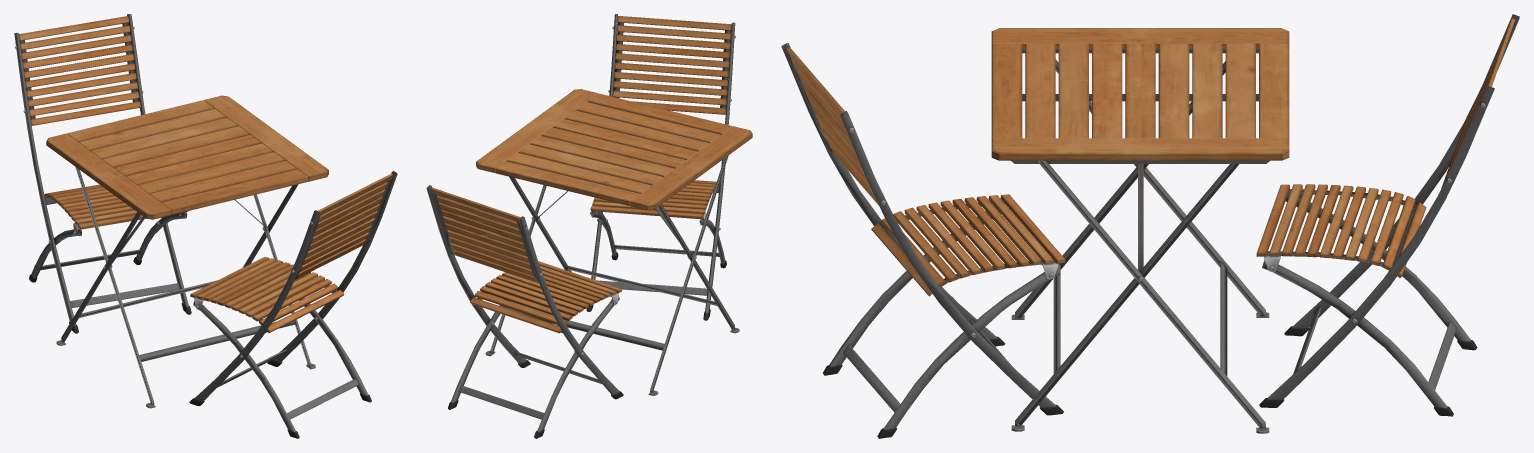
Rendered from outdoor_table_chair_set_01.glb.
3 views of the same model, side by side, from view 1: azimuth 30°, elevation 25°; view 2: azimuth 150°, elevation 25°; view 3: azimuth 270°, elevation 25° (orthographic). The views are drawn at different scales.
Visible parts, largest first — view 1: outdoor_table_chair_set_01_chair_01, outdoor_table_chair_set_01_table; view 2: outdoor_table_chair_set_01_chair_01, outdoor_table_chair_set_01_table; view 3: outdoor_table_chair_set_01_table, outdoor_table_chair_set_01_chair_01.
Boxes of the visible parts, box(x1,y1,x2,y2) form: outdoor_table_chair_set_01_chair_01: box(14, 14, 397, 438); outdoor_table_chair_set_01_table: box(46, 95, 328, 408); outdoor_table_chair_set_01_chair_01: box(426, 14, 735, 438); outdoor_table_chair_set_01_table: box(476, 89, 752, 395); outdoor_table_chair_set_01_table: box(991, 28, 1289, 433); outdoor_table_chair_set_01_chair_01: box(781, 14, 1519, 438).
Size of the model in its own units: 0.7417 by 0.8579 by 1.72.
2 materials, 2 textured.
